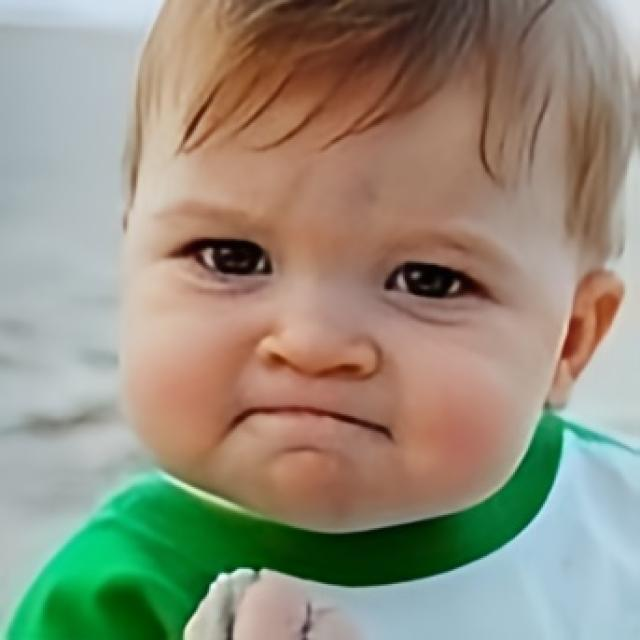anger: (119, 0, 558, 515)
